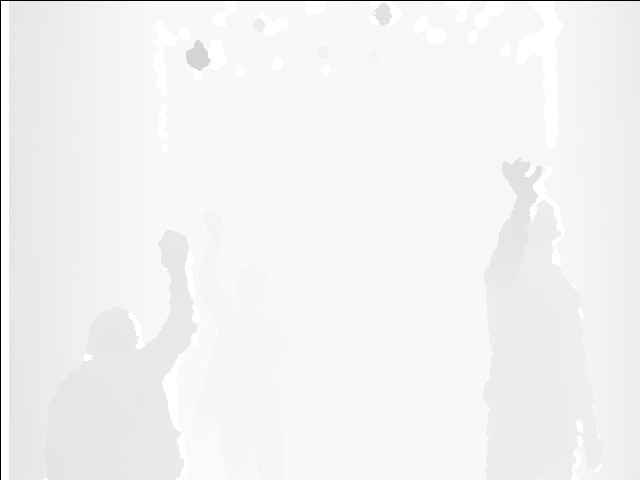hand: (498, 157, 544, 208), (160, 228, 190, 274), (199, 207, 228, 244)
